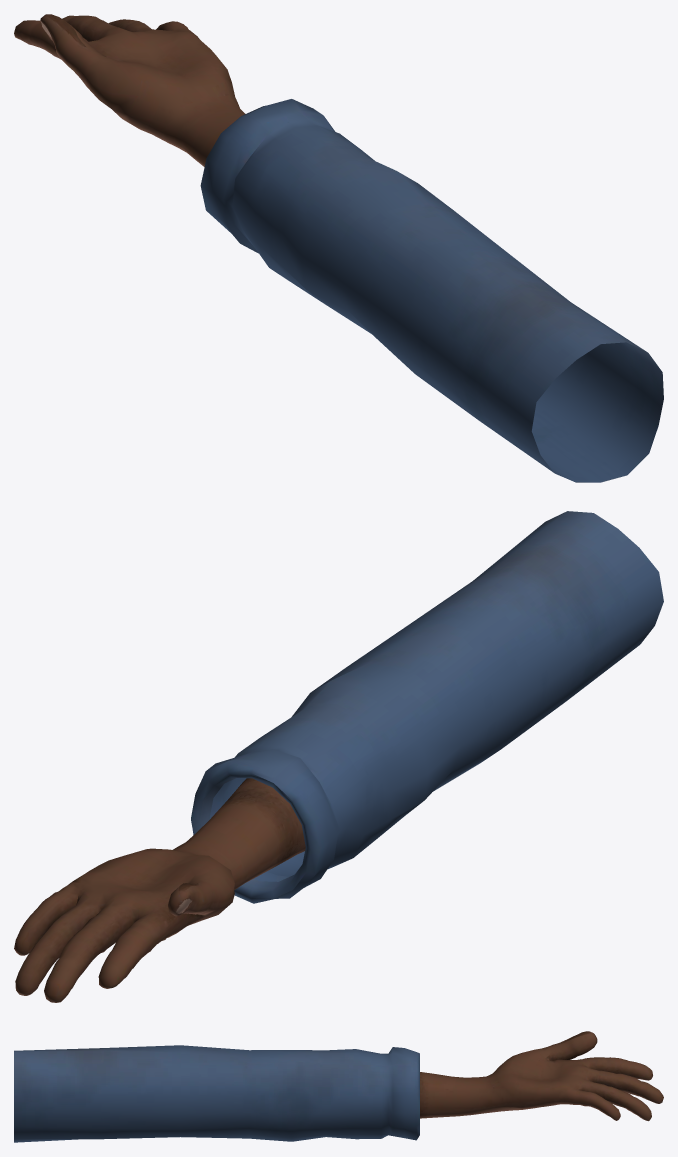
File: hand.glb
3 views of the same model, one above another, from view 1: azimuth 30°, elevation 25°; view 2: azimuth 150°, elevation 25°; view 3: azimuth 270°, elevation 25° (orthographic). The views are drawn at different scales.
Parts seen in each view (by area): view 1: mechanic_hand; view 2: mechanic_hand; view 3: mechanic_hand.
Part boxes in pixels (<box>): mechanic_hand: <box>14,14,663,482</box>; mechanic_hand: <box>14,511,663,1002</box>; mechanic_hand: <box>14,1031,663,1142</box>.
Size of the model in its own units: 0.1221 by 0.112 by 0.7603.
Materials: 1 (1 with a texture image).
